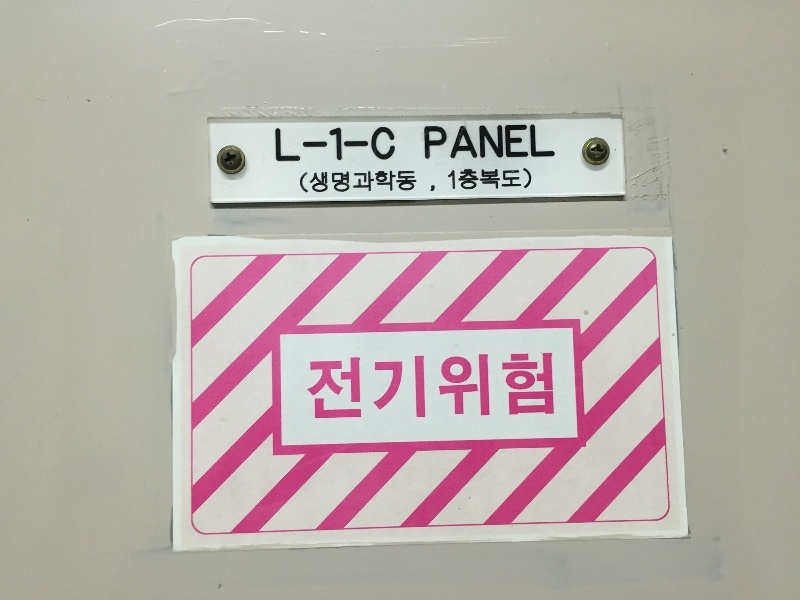text: (305, 345, 320, 434), (321, 345, 336, 434), (337, 345, 352, 434), (353, 345, 368, 434), (369, 345, 384, 434), (385, 345, 400, 434), (401, 345, 416, 434), (417, 345, 432, 434), (433, 345, 448, 434), (449, 345, 464, 434), (465, 345, 480, 434), (481, 345, 496, 434), (497, 345, 512, 434), (513, 345, 528, 434), (529, 345, 544, 434), (545, 345, 560, 434), (417, 116, 432, 167), (433, 116, 448, 167), (449, 116, 464, 167), (465, 116, 480, 167), (481, 116, 496, 167), (497, 116, 512, 167), (513, 116, 528, 167), (529, 116, 544, 167), (545, 116, 560, 167), (385, 123, 401, 165), (273, 123, 288, 166), (289, 123, 302, 166), (371, 123, 384, 165), (449, 165, 464, 199), (465, 165, 480, 199), (481, 165, 496, 199), (497, 165, 512, 199), (513, 165, 528, 199), (305, 167, 320, 200), (321, 167, 336, 200), (337, 167, 352, 200), (353, 167, 368, 200), (369, 167, 384, 200), (385, 167, 400, 200), (401, 167, 416, 200), (417, 167, 432, 200), (433, 167, 448, 200), (337, 123, 348, 166), (326, 123, 336, 166), (291, 167, 304, 200), (353, 134, 368, 161), (263, 123, 272, 166), (305, 129, 320, 154), (321, 129, 333, 154), (529, 165, 537, 199), (561, 116, 566, 167), (345, 134, 352, 161), (302, 345, 304, 434), (561, 345, 563, 434), (369, 134, 372, 161), (301, 129, 304, 154), (446, 165, 448, 199)
